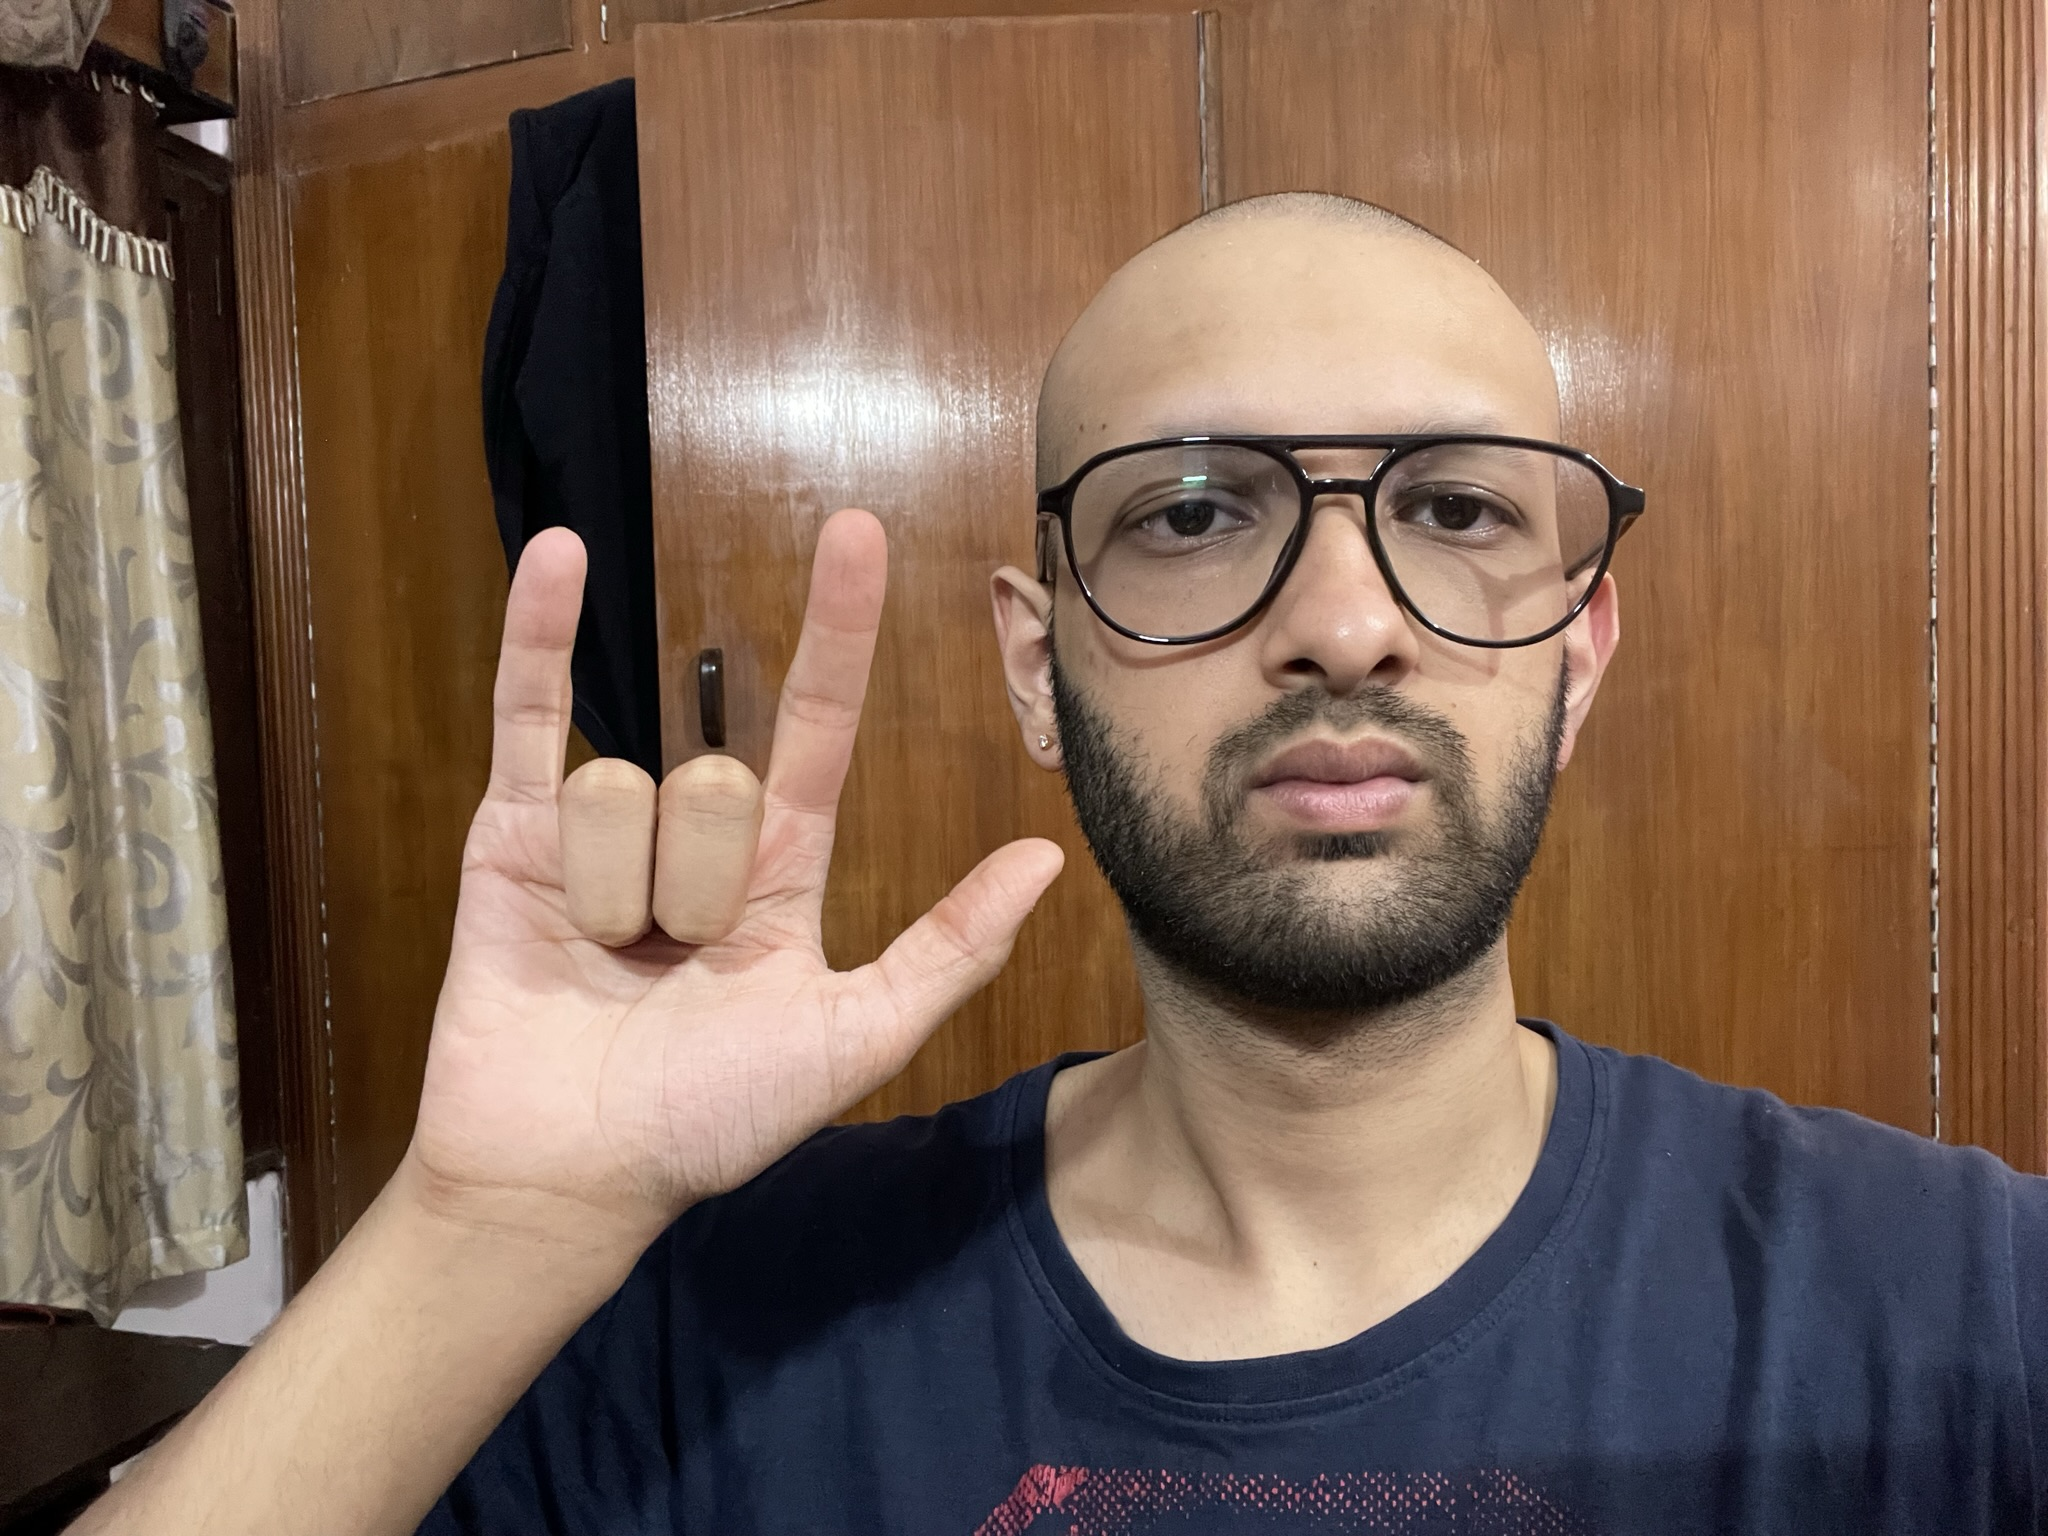I Love You: (413, 499, 1076, 1231)
